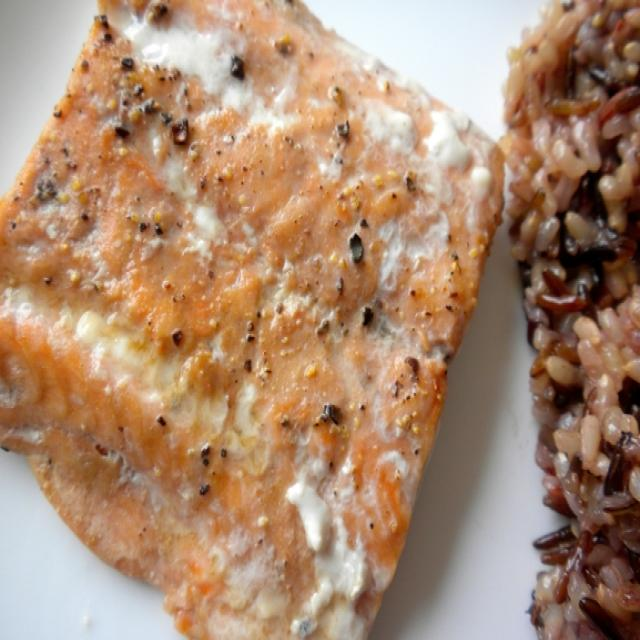熟制海鲜: (0, 7, 631, 624)
